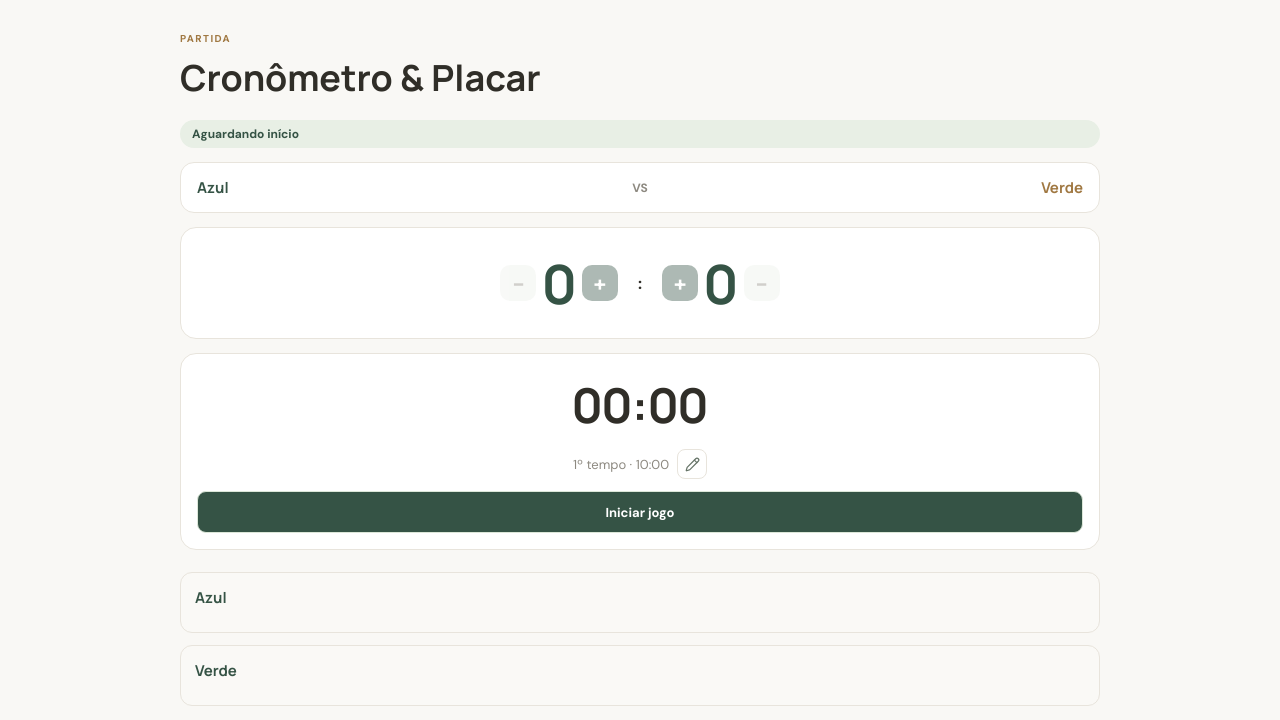
Test: edição da duração antes do início › mostra a duração atual e abre a edição inline
The width and height of the screenshot is (1280, 720).
expect the text named "Duração do jogo" reads "10": met, box x1=636 y1=456 x2=649 y2=472
What coordinates should you click on to do the following:
click the button named "Editar duração do jogo"
I would click on:
 (692, 464)
Its box is x1=677 y1=449 x2=707 y2=479.
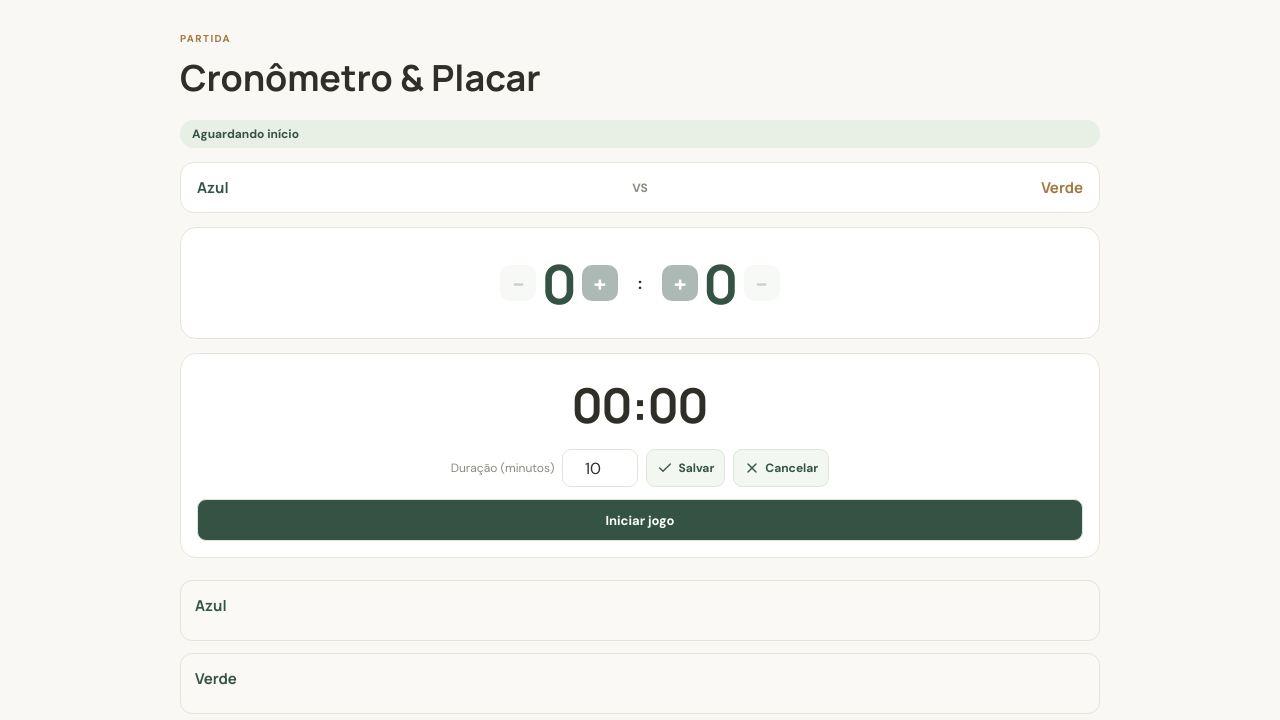
expect the number field labelled "Duração (minutos)" holds "10": met, box x1=562 y1=449 x2=638 y2=487
expect the button with aria-label "Salvar duração" is shown: met, box x1=646 y1=449 x2=725 y2=487
expect the button with aria-label "Cancelar edição da duração" is shown: met, box x1=733 y1=449 x2=829 y2=487
